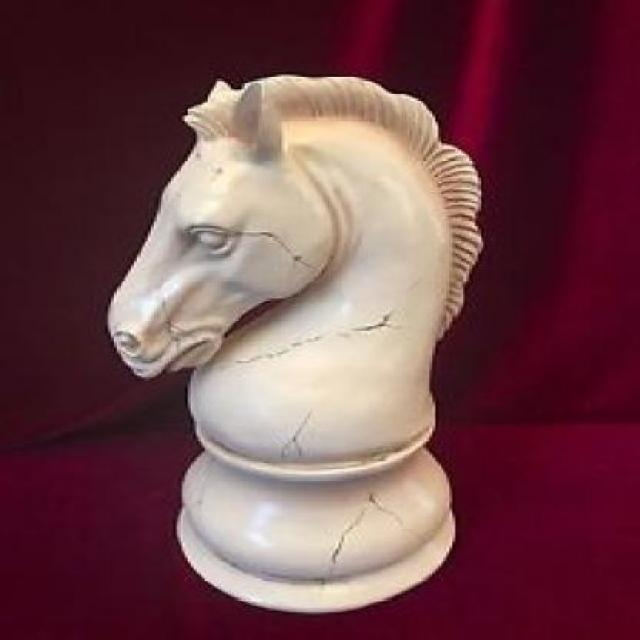white-knight: (108, 76, 485, 613)
